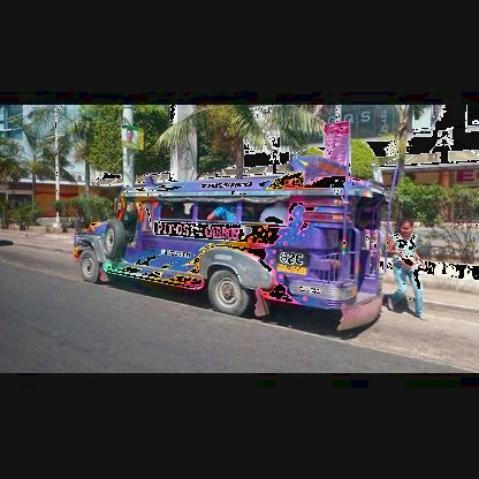jeepney: (76, 164, 397, 359)
